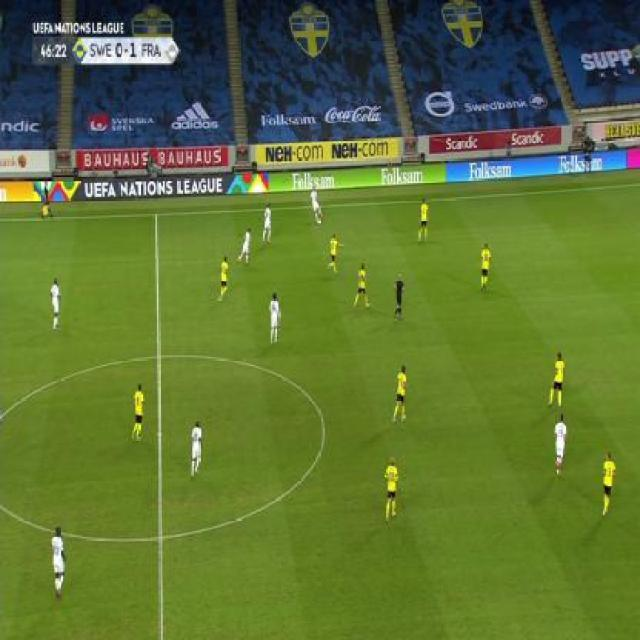ball: (317, 218, 322, 226)
player: (545, 350, 567, 410), (599, 450, 618, 519), (50, 526, 67, 600), (392, 362, 411, 425), (383, 454, 400, 523), (553, 412, 570, 480), (129, 382, 146, 444), (477, 241, 496, 294), (188, 418, 204, 480), (352, 262, 371, 311), (48, 277, 64, 331), (326, 232, 345, 275), (268, 291, 282, 345), (392, 273, 406, 321), (416, 196, 430, 242), (237, 226, 253, 265), (218, 254, 231, 302), (41, 178, 54, 220), (309, 185, 323, 224), (262, 202, 273, 244)
